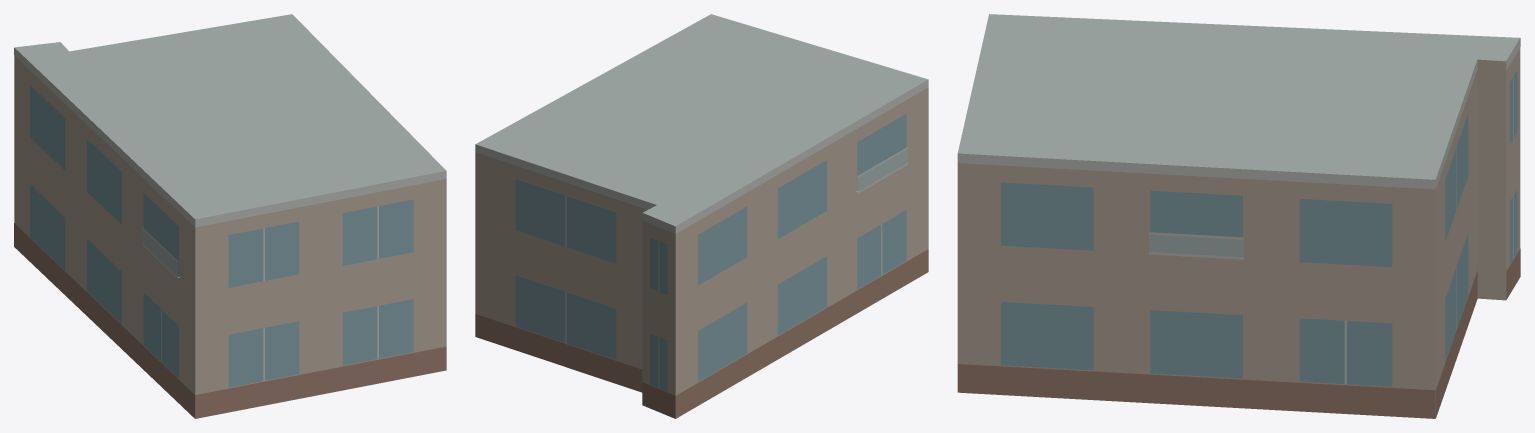
The model's file is survey-upis-32939861.glb.
3 views of the same model, side by side, from view 1: azimuth 30°, elevation 25°; view 2: azimuth 150°, elevation 25°; view 3: azimuth 270°, elevation 25° (orthographic). The views are drawn at different scales.
Visible parts, largest first — view 1: survey-upis-32939861.tmp; view 2: survey-upis-32939861.tmp; view 3: survey-upis-32939861.tmp.
Boxes of the visible parts, box(x1,y1,x2,y2) form: survey-upis-32939861.tmp: box(14, 14, 446, 418); survey-upis-32939861.tmp: box(475, 14, 928, 418); survey-upis-32939861.tmp: box(957, 14, 1520, 418).
Size of the model in its own units: 9.08 by 6.1 by 13.03.
